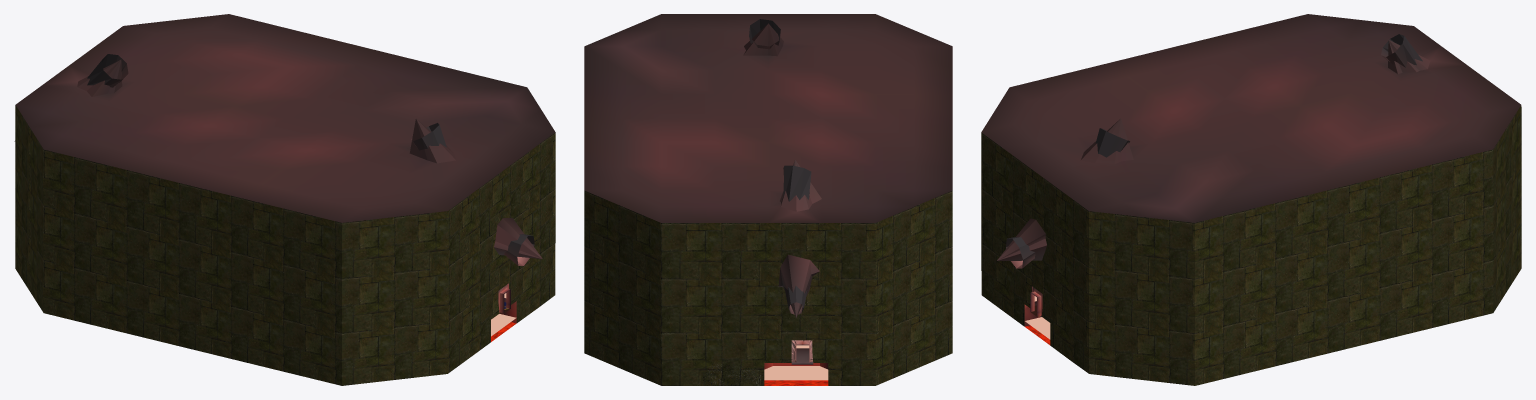
3 views of the same model, side by side, from view 1: azimuth 30°, elevation 25°; view 2: azimuth 150°, elevation 25°; view 3: azimuth 270°, elevation 25° (orthographic).
Visible parts, largest first — view 1: node-01BC3F5A, node-0193BA14, node-03B40CEC, node-01106A02; view 2: node-0193BA14, node-01BC3F5A, node-03B40CEC, node-01106A02, node-03B05239, node-00774327, node-03359B0C; view 3: node-01BC3F5A, node-0193BA14, node-01106A02, node-03B40CEC.
Boxes of the visible parts, x1,y1,x2,y2 form: node-01BC3F5A: (15, 105, 555, 385); node-0193BA14: (15, 14, 555, 222); node-03B40CEC: (14, 59, 542, 258); node-01106A02: (87, 54, 534, 265); node-0193BA14: (584, 14, 952, 222); node-01BC3F5A: (584, 190, 952, 385); node-03B40CEC: (778, 160, 821, 317); node-01106A02: (749, 19, 811, 314); node-03B05239: (764, 345, 828, 380); node-00774327: (764, 380, 828, 385); node-03359B0C: (699, 363, 764, 385); node-01BC3F5A: (981, 105, 1521, 385); node-0193BA14: (981, 14, 1520, 222); node-01106A02: (1006, 34, 1422, 268); node-03B40CEC: (997, 40, 1430, 260).
Bounding box in the file's own units: 2290 × 1012 × 2510.
